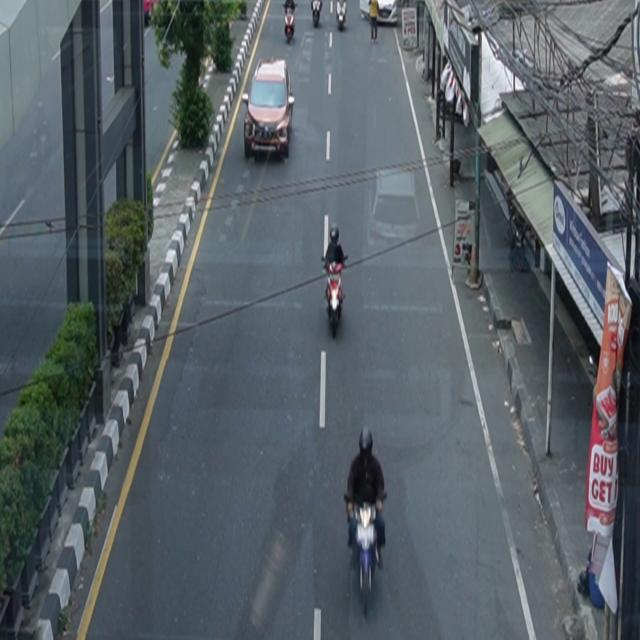car: (243, 58, 296, 161)
